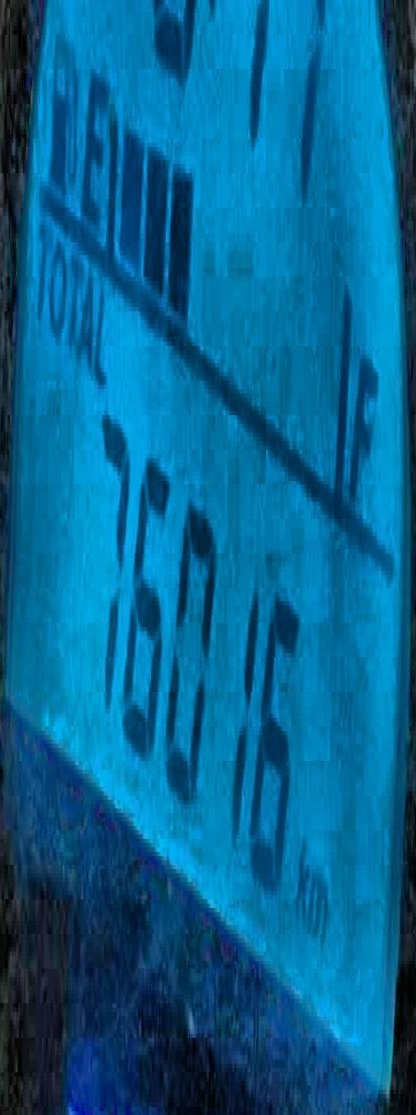0: (166, 488, 215, 791)
1: (230, 553, 256, 834)
6: (251, 553, 295, 890), (122, 432, 162, 761)
7: (99, 402, 130, 704)
X: (351, 328, 379, 506), (79, 47, 106, 224), (35, 194, 51, 324), (93, 276, 108, 406), (306, 864, 328, 951), (49, 238, 66, 346), (67, 229, 82, 350), (79, 264, 92, 385), (296, 826, 306, 917)
